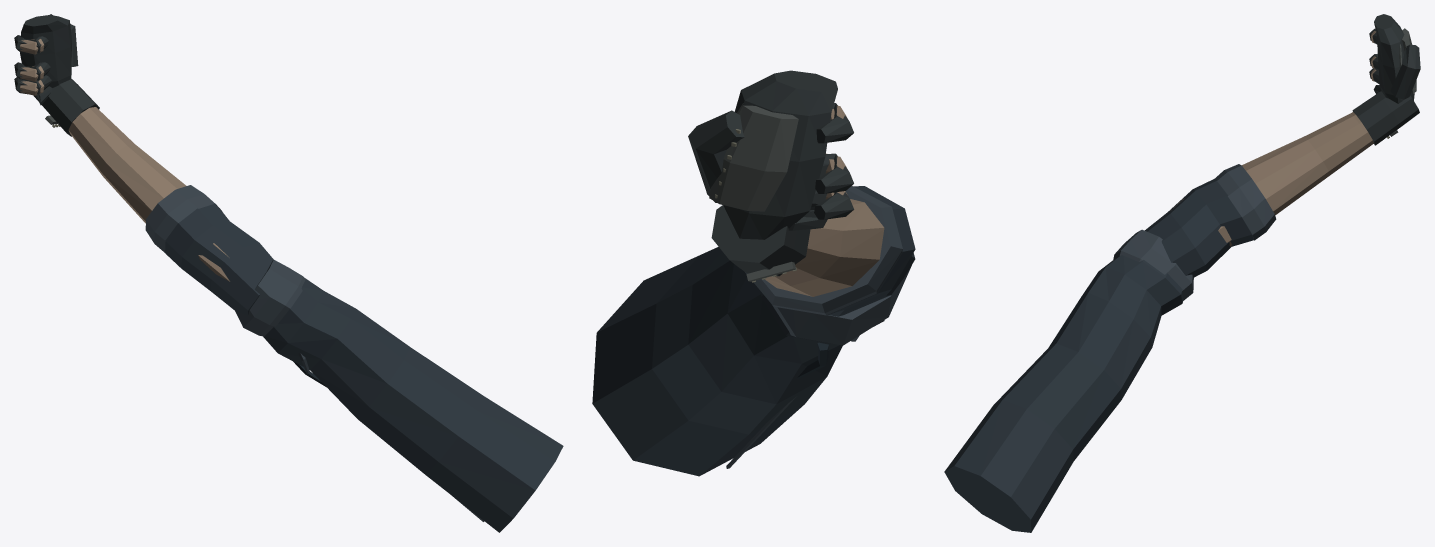
Rendered from la-draw-arm-v261.glb.
The picture shows the model from 3 angles, left to right: view 1: azimuth 30°, elevation 25°; view 2: azimuth 150°, elevation 25°; view 3: azimuth 270°, elevation 25°; orthographic projection. The views are drawn at different scales.
Visible parts, largest first — view 1: la-draw-arm-v261; view 2: la-draw-arm-v261; view 3: la-draw-arm-v261.
Part boxes in pixels (x1,y1,x2,y2): la-draw-arm-v261: (14,14,563,532); la-draw-arm-v261: (592,70,915,476); la-draw-arm-v261: (944,14,1420,532).
Bounding box in the file's own units: 0.6122 × 0.7276 × 0.8012.
